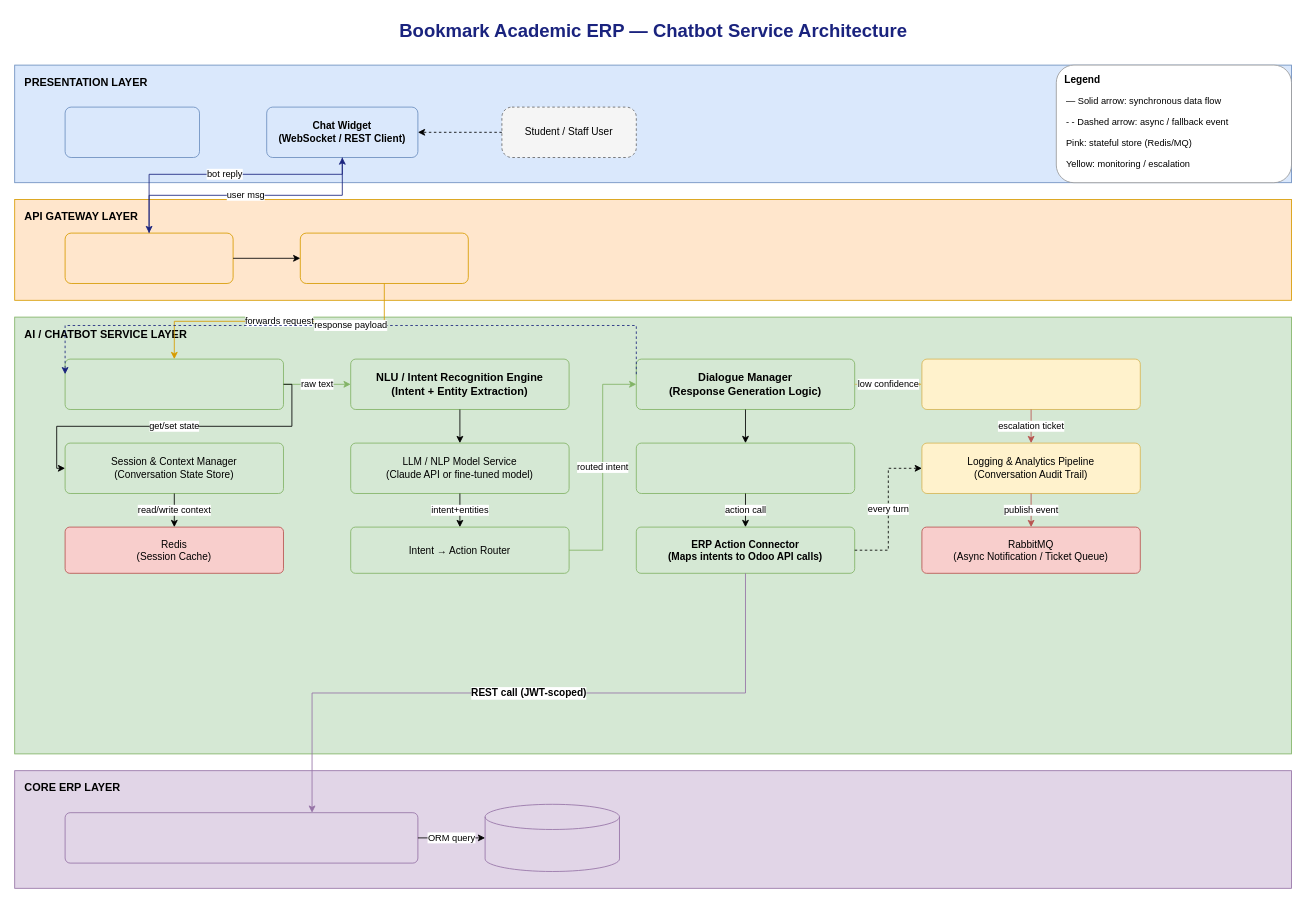
Some shapes in this 1306 by 903 pixel diagram are drawn without their labels. Here are the shapes that lost their labels. From the top down, the centre of each, then its label:
At point (132, 132): "React SPA (Tailwind CSS)".
At point (148, 258): "FastAPI Gateway (JWT Auth + Routing)".
At point (383, 258): "/chat Route (Auth-validated Endpoint)".
At point (174, 384): "Chatbot Orchestrator Service (Python microservice)".
At point (1030, 384): "Fallback / Escalation Handler (Human Handoff Trigger)".
At point (745, 468): "Knowledge Base / FAQ Index (Vector Store / RAG Retriever)".
At point (241, 837): "Headless Odoo (Python) Admissions · Petitions · Registration REST APIs".
At point (552, 837): "PostgreSQL (System of Record)".
